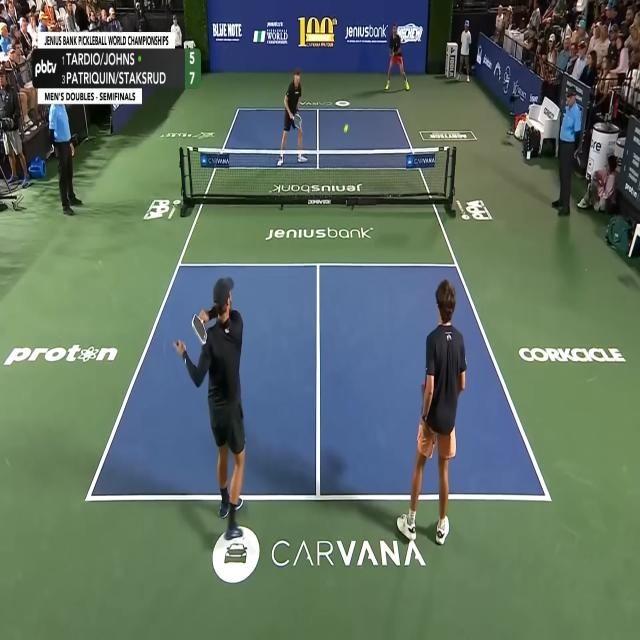ball: (343, 123, 349, 134)
